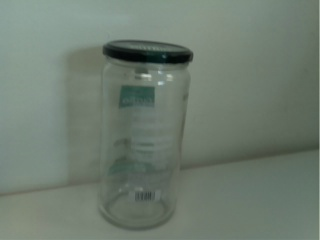pote cristal: (97, 37, 196, 233)
